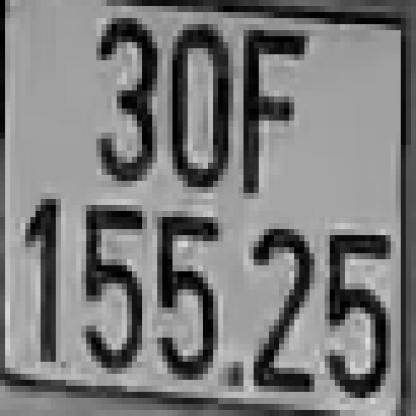0: (173, 24, 223, 187)
1: (20, 205, 71, 356)
2: (244, 223, 310, 386)
3: (96, 18, 158, 181)
5: (324, 229, 386, 386), (157, 205, 213, 374), (86, 205, 142, 368)
F: (238, 30, 300, 199)
